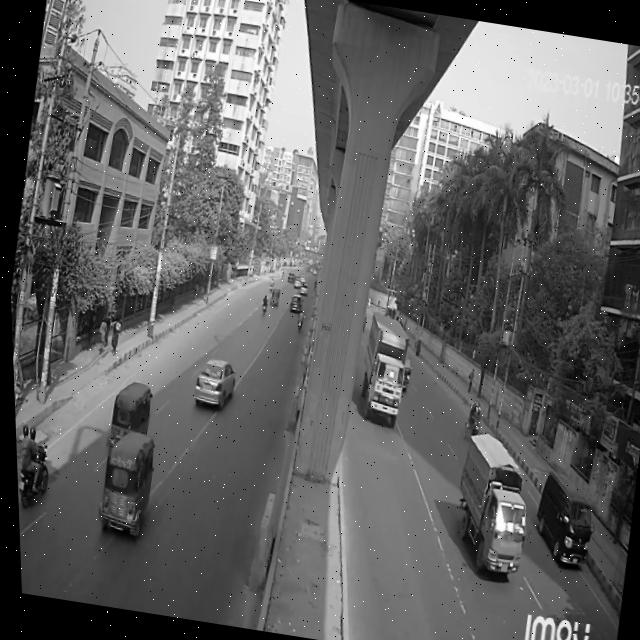cng: (90, 429, 152, 540), (100, 372, 152, 464), (264, 284, 281, 312)
rikshaw: (459, 396, 485, 440)
